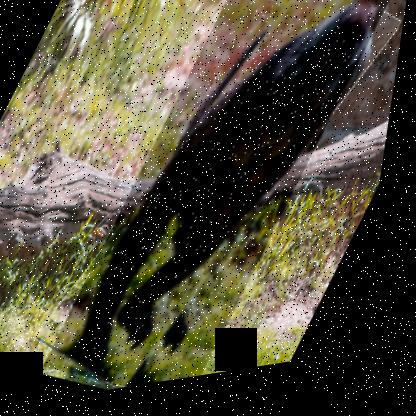Gorilla gorilla: (49, 0, 401, 403), (202, 119, 303, 250)
